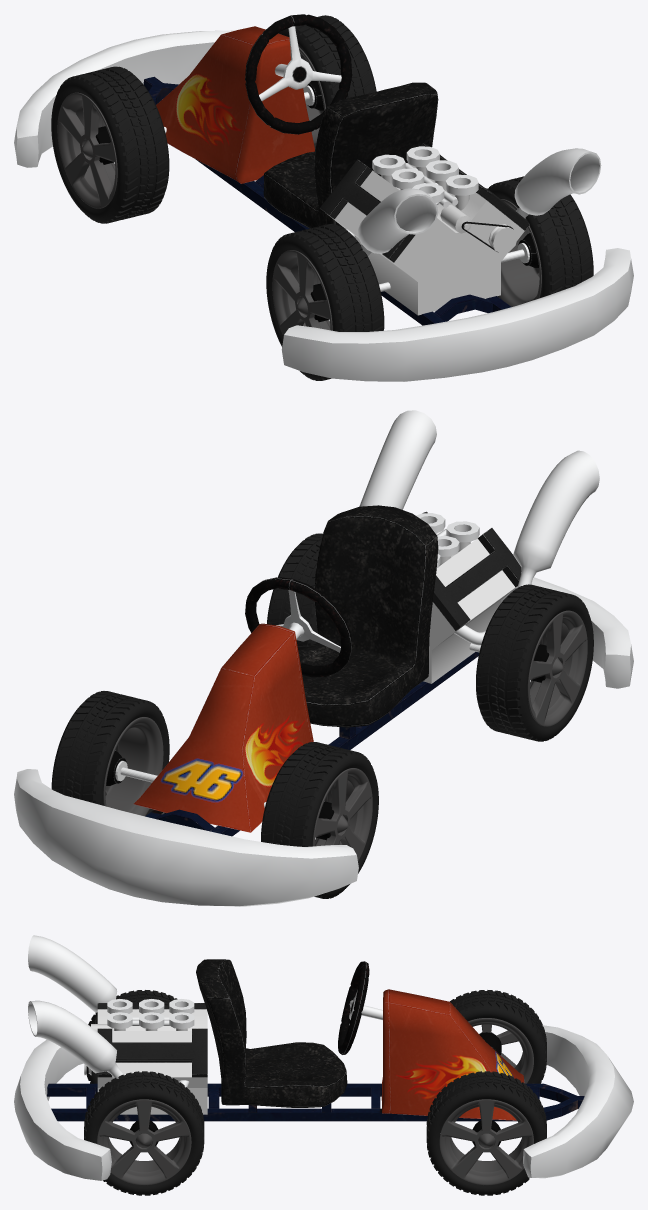
The model's file is kart.glb.
The picture shows the model from 3 angles, top to bottom: view 1: azimuth 30°, elevation 25°; view 2: azimuth 150°, elevation 25°; view 3: azimuth 270°, elevation 25°; orthographic projection. The views are drawn at different scales.
Visible parts, largest first — view 1: kart_kart_body_0, tire_highpoly_tire_0, tire_highpoly002_tire_0, tire_highpoly_rim_0, tire_highpoly003_tire_0, tire_highpoly002_rim_0, tire_highpoly001_tire_0, tire_highpoly003_rim_0; view 2: kart_kart_body_0, tire_highpoly002_tire_0, tire_highpoly_tire_0, tire_highpoly001_tire_0, tire_highpoly002_rim_0, tire_highpoly_rim_0, tire_highpoly001_rim_0, tire_highpoly003_tire_0; view 3: kart_kart_body_0, tire_highpoly001_tire_0, tire_highpoly003_tire_0, tire_highpoly001_rim_0, tire_highpoly003_rim_0, tire_highpoly_tire_0, tire_highpoly_rim_0, tire_highpoly002_tire_0.
Part boxes in pixels (bbox=[...]): kart_kart_body_0: bbox=[14, 14, 633, 381]; tire_highpoly_tire_0: bbox=[51, 66, 169, 223]; tire_highpoly002_tire_0: bbox=[266, 224, 384, 380]; tire_highpoly_rim_0: bbox=[57, 92, 117, 208]; tire_highpoly003_tire_0: bbox=[487, 176, 593, 297]; tire_highpoly002_rim_0: bbox=[272, 250, 332, 336]; tire_highpoly001_tire_0: bbox=[278, 15, 376, 108]; tire_highpoly003_rim_0: bbox=[498, 199, 541, 306]; kart_kart_body_0: bbox=[14, 410, 633, 906]; tire_highpoly002_tire_0: bbox=[476, 584, 593, 741]; tire_highpoly_tire_0: bbox=[261, 742, 378, 898]; tire_highpoly001_tire_0: bbox=[51, 691, 169, 815]; tire_highpoly002_rim_0: bbox=[527, 610, 587, 726]; tire_highpoly_rim_0: bbox=[312, 768, 372, 861]; tire_highpoly001_rim_0: bbox=[103, 717, 163, 816]; tire_highpoly003_tire_0: bbox=[267, 533, 322, 650]; kart_kart_body_0: bbox=[14, 935, 633, 1180]; tire_highpoly001_tire_0: bbox=[426, 1071, 546, 1195]; tire_highpoly003_tire_0: bbox=[84, 1071, 204, 1195]; tire_highpoly001_rim_0: bbox=[439, 1099, 533, 1185]; tire_highpoly003_rim_0: bbox=[97, 1099, 191, 1185]; tire_highpoly_tire_0: bbox=[450, 990, 546, 1083]; tire_highpoly_rim_0: bbox=[468, 1018, 533, 1083]; tire_highpoly002_tire_0: bbox=[87, 990, 177, 1083].
Bounding box in the file's own units: 130 × 81.24 × 251.
Materials: 9 (1 with a texture image).
